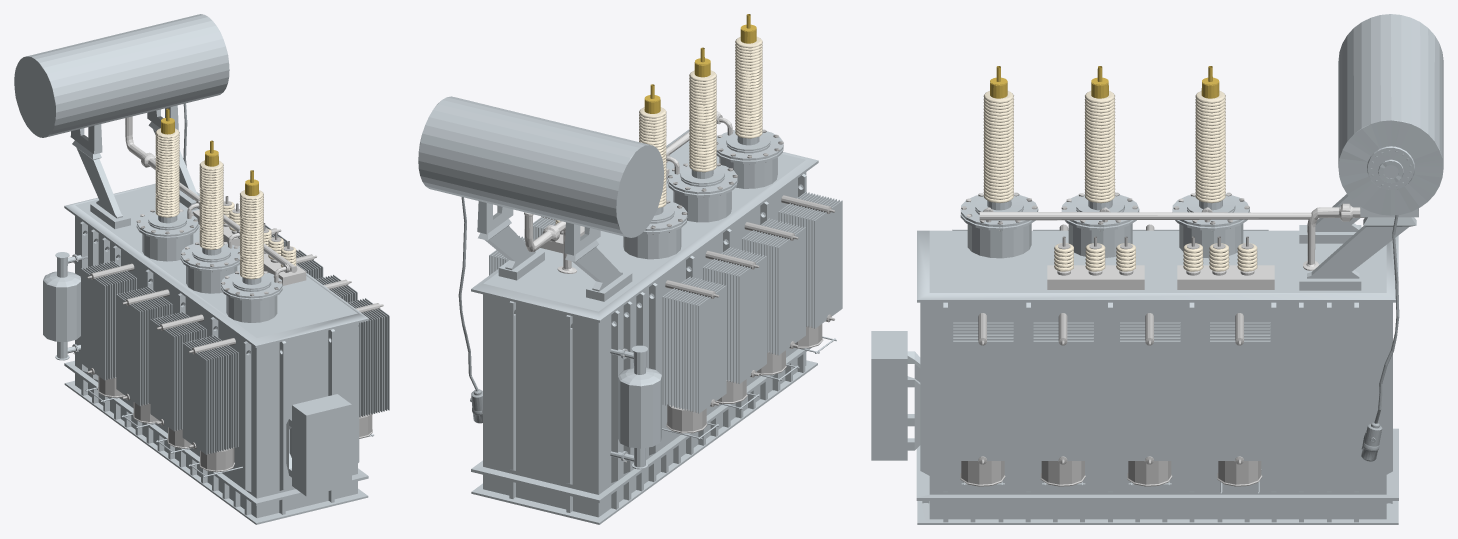
3 views of the same model, side by side, from view 1: azimuth 30°, elevation 25°; view 2: azimuth 150°, elevation 25°; view 3: azimuth 270°, elevation 25° (orthographic). The views are drawn at different scales.
Visible parts, largest first — view 1: Бак, Расширительный бак.001, Cube.025, Cube.031, Cube.021, Cube.022, Cube.023, Cube.024, Cylinder.018, Основание изолятора А, Cube.001, Основание изолятора А.002 (+13 smaller); view 2: Бак, Расширительный бак.001, Cube.021, Cube.022, Cube.023, Cube.025, Cylinder.018, Основание изолятора А.001, Основание изолятора А, Изолятор керамический.001, Изолятор керамический.002, Cube.001 (+13 smaller); view 3: Бак, Расширительный бак.001, Cube.019, Cube.020, Cube.024, Cube.018, Cube.031, Cube.027, Основание изолятора А, Изолятор керамический.003, Изолятор керамический.001, Изолятор керамический.002 (+22 smaller).
Boxes of the visible parts, x1,y1,x2,y2 form: Бак: (64,183,368,524); Расширительный бак.001: (14,14,229,137); Cube.025: (182,335,238,454); Cube.031: (286,394,351,496); Cube.021: (81,261,136,380); Cube.022: (116,286,172,406); Cube.023: (150,311,206,431); Cube.024: (348,298,389,417); Cylinder.018: (43,252,87,360); Основание изолятора А: (221,271,282,322); Cube.001: (70,124,130,228); Основание изолятора А.002: (136,210,198,261); Бак: (471,129,818,524); Расширительный бак.001: (418,96,663,237); Cube.021: (662,276,726,413); Cube.022: (703,247,766,384); Cube.023: (742,218,805,355); Cube.025: (778,191,842,328); Cylinder.018: (610,345,661,469); Основание изолятора А.001: (667,163,737,222); Основание изолятора А: (716,130,783,188); Изолятор керамический.001: (735,36,762,138); Изолятор керамический.002: (689,70,716,172); Cube.001: (564,222,632,301); Бак: (916,230,1398,524); Расширительный бак.001: (1338,14,1443,215); Cube.019: (1119,322,1180,460); Cube.020: (1209,322,1270,460); Cube.024: (952,322,1013,460); Cube.018: (1033,322,1093,460); Cube.031: (871,331,920,460); Cube.027: (1299,207,1418,290); Основание изолятора А: (960,195,1038,258); Изолятор керамический.003: (1195,90,1225,203); Изолятор керамический.001: (983,91,1013,203); Изолятор керамический.002: (1084,91,1115,203).
Size of the model in its own units: 391 by 647 by 794.
